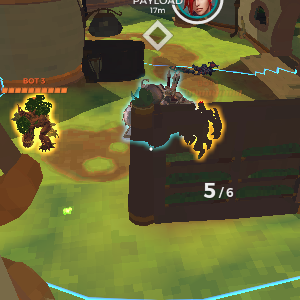model: (16, 97, 58, 155), (185, 97, 221, 164)
